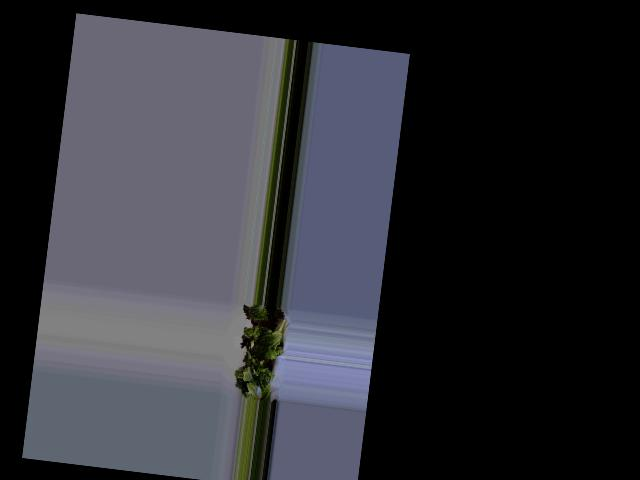lettuce: (236, 306, 281, 396)
